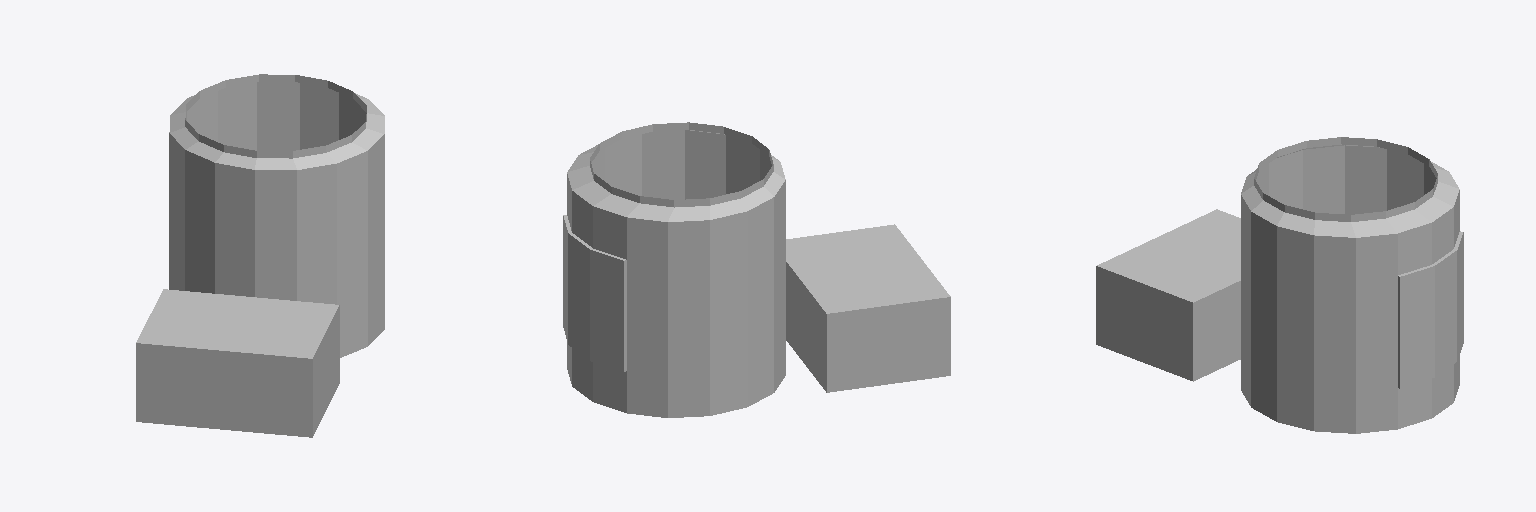
The model's file is antenainf.obj.
The picture shows the model from 3 angles: view 1: azimuth 30°, elevation 25°; view 2: azimuth 150°, elevation 25°; view 3: azimuth 270°, elevation 25°; orthographic projection.
Visible parts, largest first — view 1: radio_dish_obj:Mesh polySurface2, polySurface1 radio_dish_obj:Mesh; view 2: radio_dish_obj:Mesh polySurface2, polySurface1 radio_dish_obj:Mesh, radio_dish_obj:Mesh polySurface3; view 3: radio_dish_obj:Mesh polySurface2, polySurface1 radio_dish_obj:Mesh, radio_dish_obj:Mesh polySurface3.
Boxes of the visible parts, <box> form: radio_dish_obj:Mesh polySurface2: <box>169,74,384,357</box>; polySurface1 radio_dish_obj:Mesh: <box>136,289,339,437</box>; radio_dish_obj:Mesh polySurface2: <box>567,122,785,417</box>; polySurface1 radio_dish_obj:Mesh: <box>786,224,950,392</box>; radio_dish_obj:Mesh polySurface3: <box>563,215,626,371</box>; radio_dish_obj:Mesh polySurface2: <box>1241,137,1459,433</box>; polySurface1 radio_dish_obj:Mesh: <box>1096,209,1240,381</box>; radio_dish_obj:Mesh polySurface3: <box>1398,231,1463,388</box>.
Bounding box in the file's own units: 7.48 × 5.01 × 7.87.